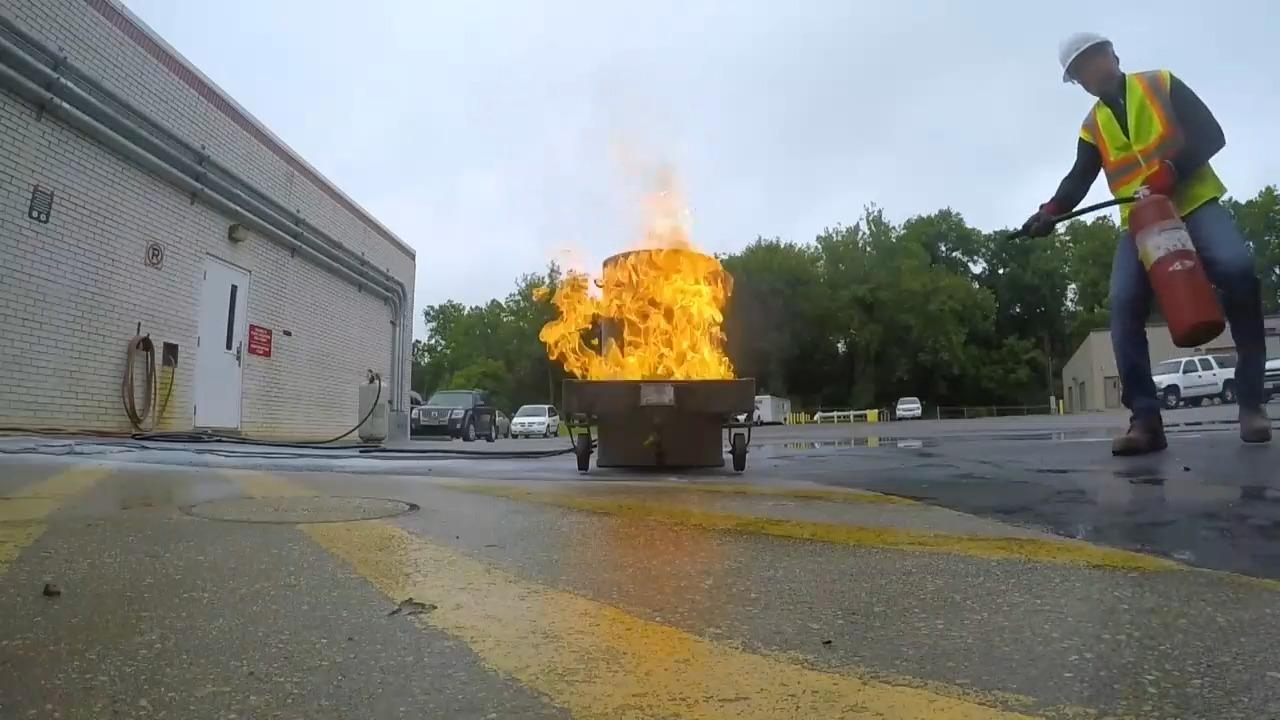Gloves: (1140, 171, 1189, 199), (1023, 202, 1060, 238)
Helmet: (1054, 28, 1112, 65)
Person: (1022, 30, 1271, 456)
Safety Boot: (1110, 409, 1167, 456), (1237, 401, 1272, 442)
Safety Vest: (1091, 109, 1195, 216)
